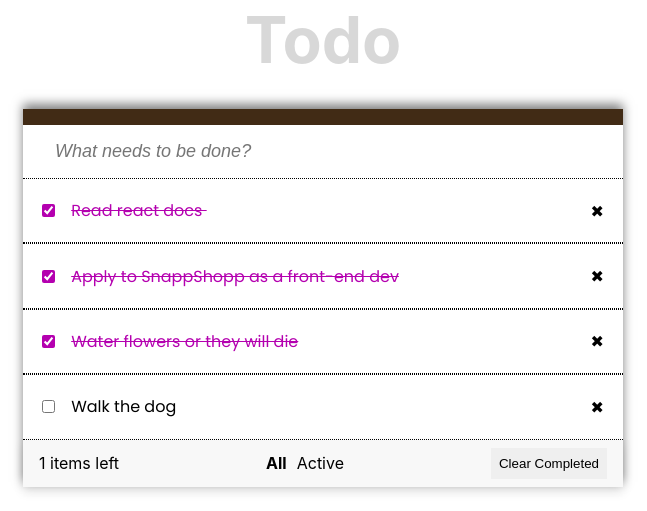
todos CRUD › clicking clear completed clears all completed todos
// click on active button
What coordinates should you click on to do the following:
click the button "Clear Completed"
I would click on:
 (549, 464)
Its box is [491,448,607,479].
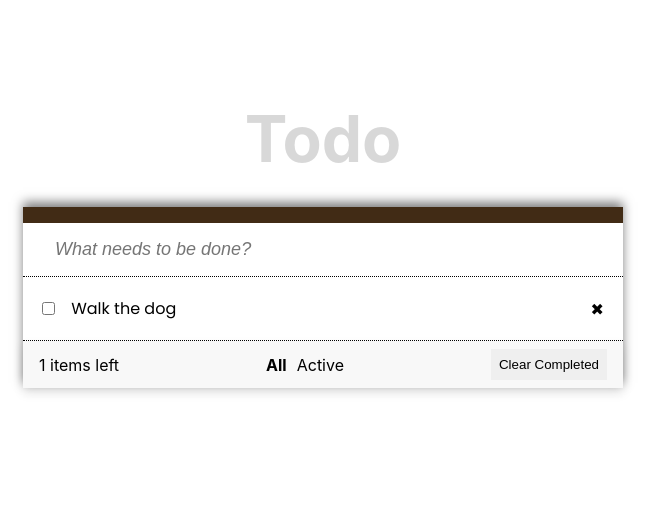
Expected: the element with test id "todo-true" is gone
